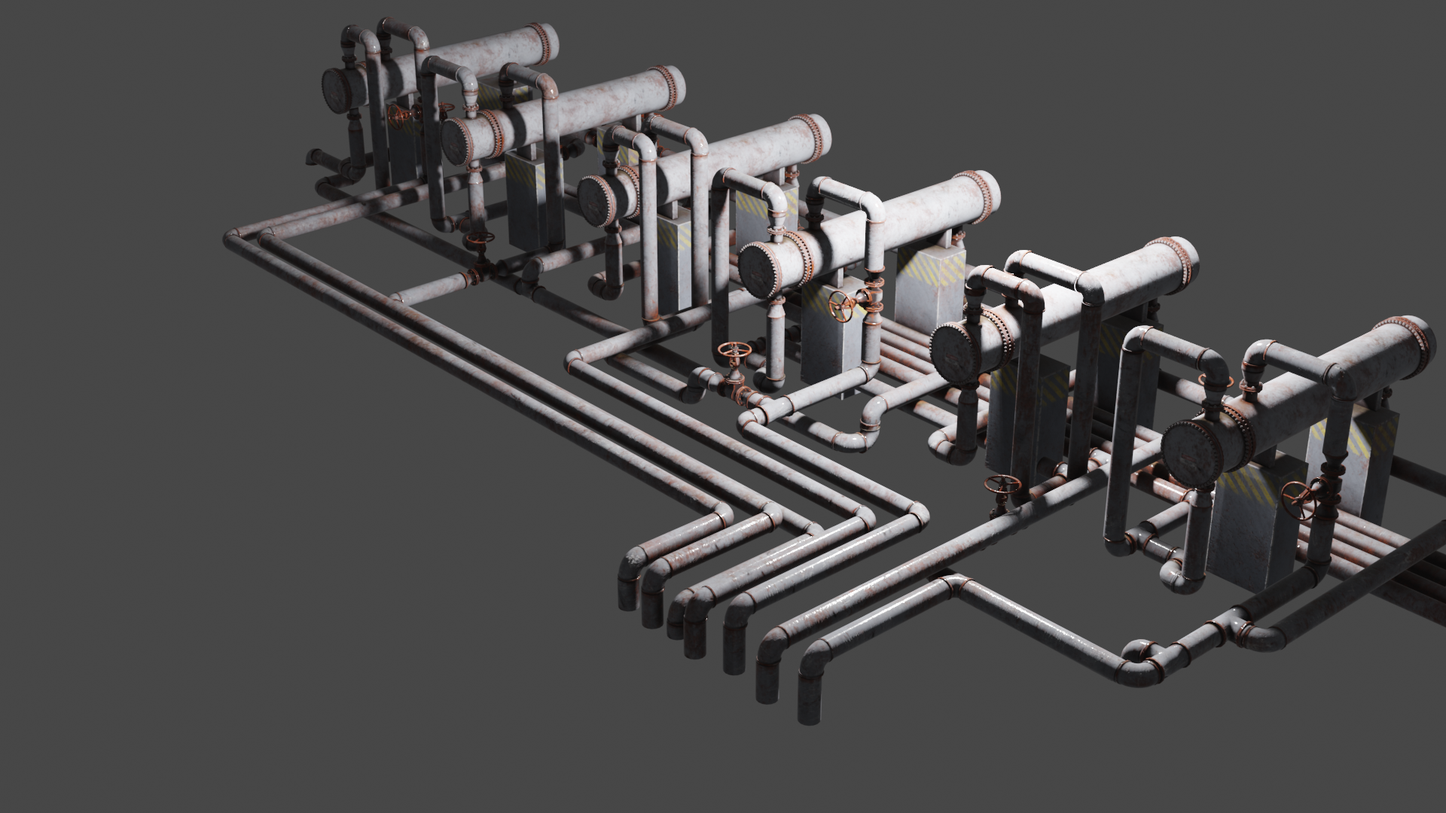HE_1: (316, 19, 564, 117)
HE_2: (440, 64, 691, 167)
HE_3: (568, 110, 835, 226)
HE_4: (733, 163, 1006, 301)
HE_5: (924, 233, 1200, 387)
HE_6: (1160, 308, 1433, 489)
